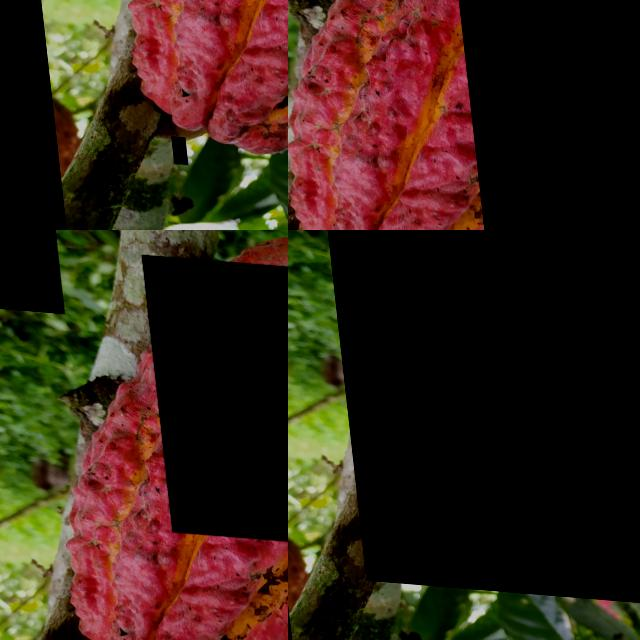Sana: (312, 230, 640, 604), (449, 0, 640, 230), (139, 251, 288, 542), (0, 230, 60, 312), (0, 580, 17, 640), (56, 616, 81, 640), (159, 134, 175, 162)
